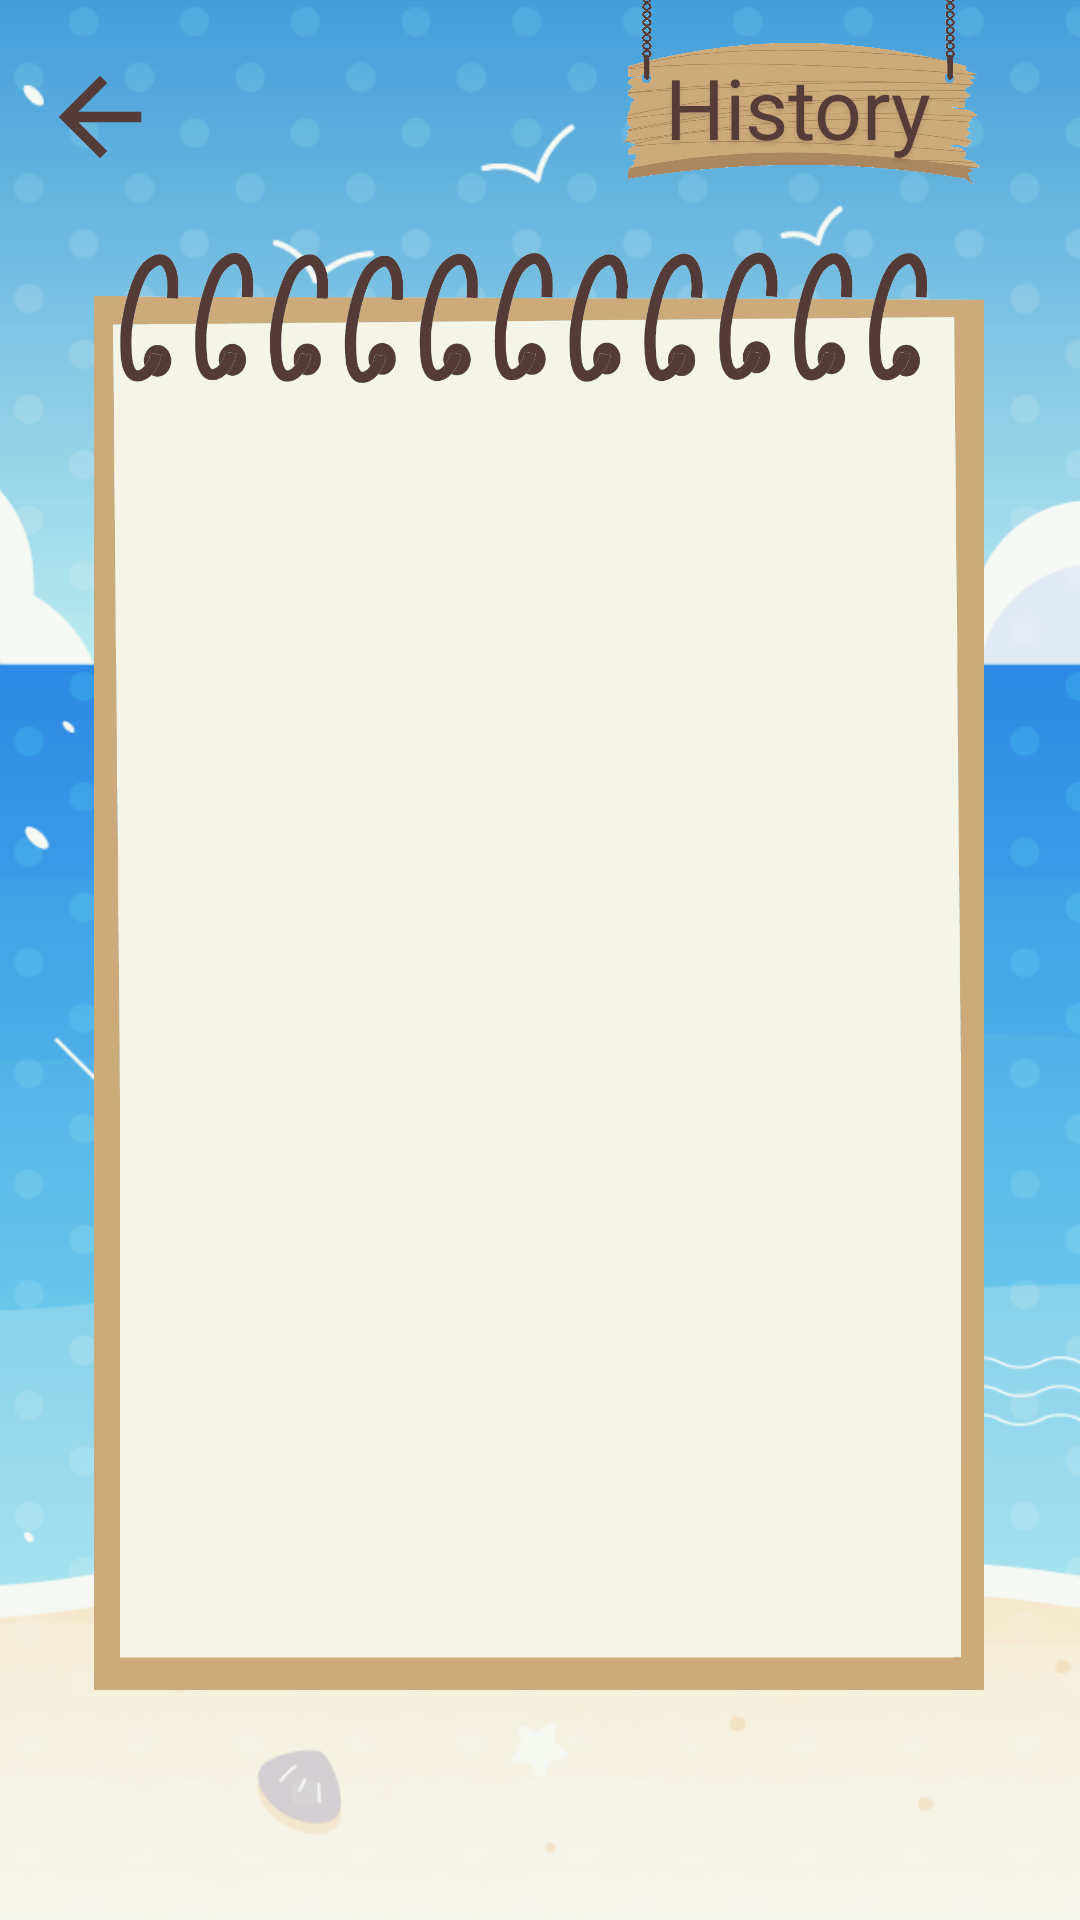

Named icons in this screenshot (1080px x 1920px) and their bounding boxes, (x1, y1, x2, y2):
arrow back: (38, 62, 162, 184)
